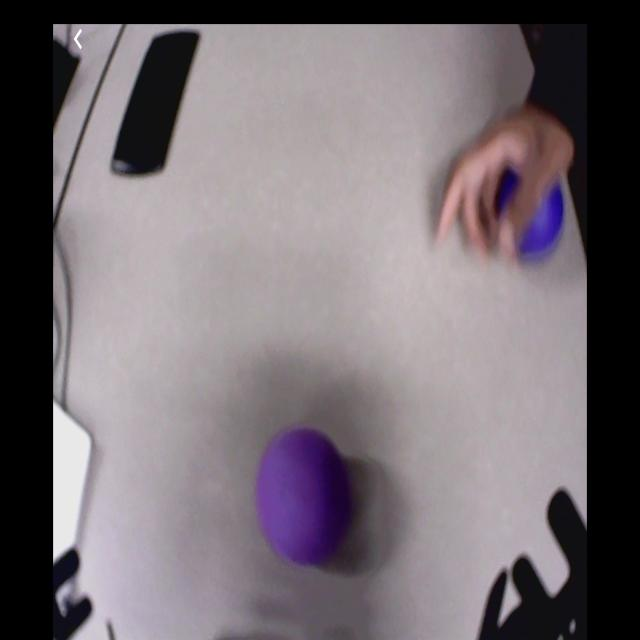ball: (255, 426, 348, 561), (496, 160, 563, 252)
